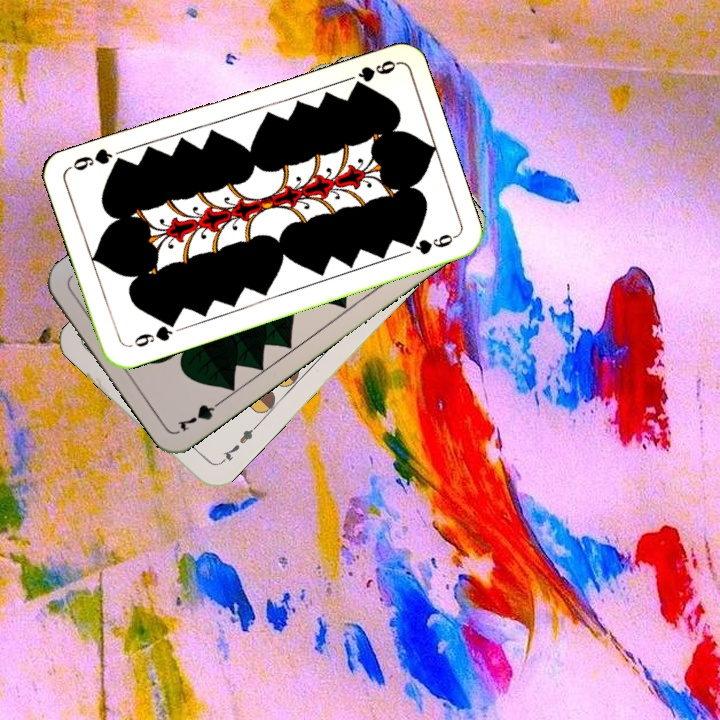E7: (214, 421, 260, 468)
G7: (173, 394, 228, 434)
G9: (130, 316, 179, 350), (349, 56, 399, 89)
